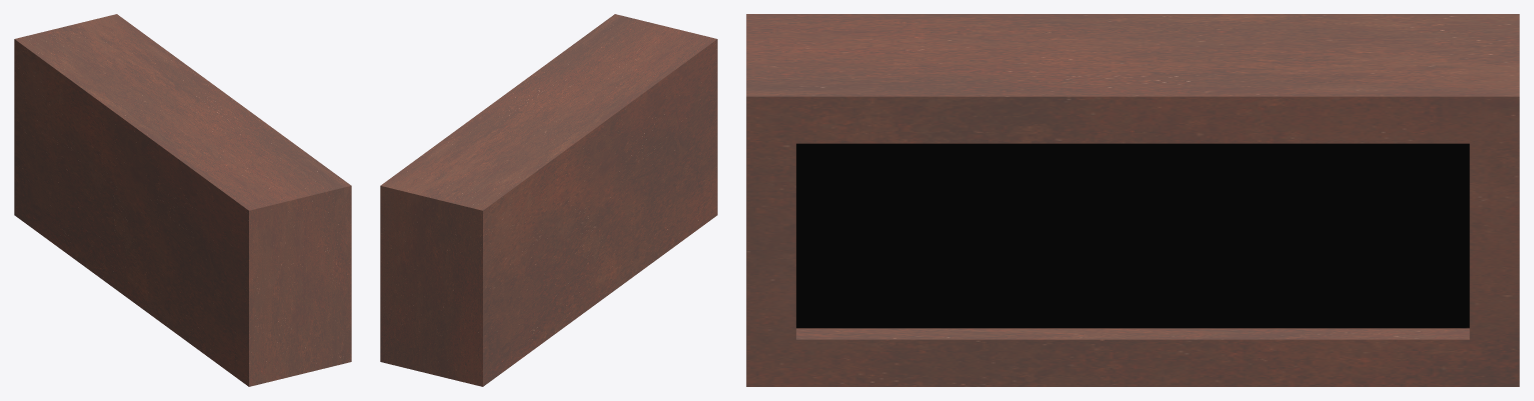
The model's file is Misiones.glb.
3 views of the same model, side by side, from view 1: azimuth 30°, elevation 25°; view 2: azimuth 150°, elevation 25°; view 3: azimuth 270°, elevation 25° (orthographic). The views are drawn at different scales.
Parts seen in each view (by area): view 1: Cube; view 2: Cube; view 3: Cube.
Part boxes in pixels (left/top/right/bottom): Cube: left=14, top=14, right=351, bottom=386; Cube: left=380, top=14, right=717, bottom=386; Cube: left=746, top=14, right=1519, bottom=386.
Bounding box in the file's own units: 2 × 3.28 × 7.92.
Materials: 1 (1 with a texture image).
